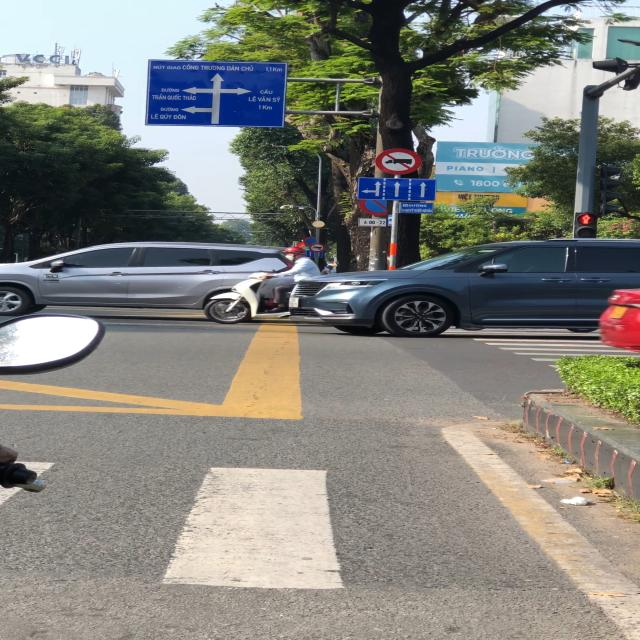Bien bao cam xe so-mi ro-mooc: (373, 147, 422, 176), (308, 241, 326, 253)
